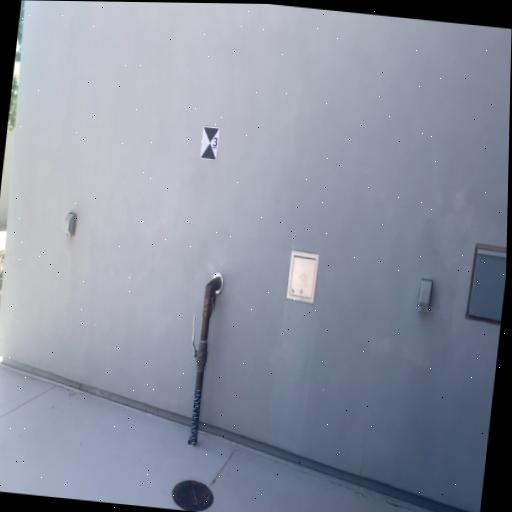target3: (200, 125, 220, 161)
